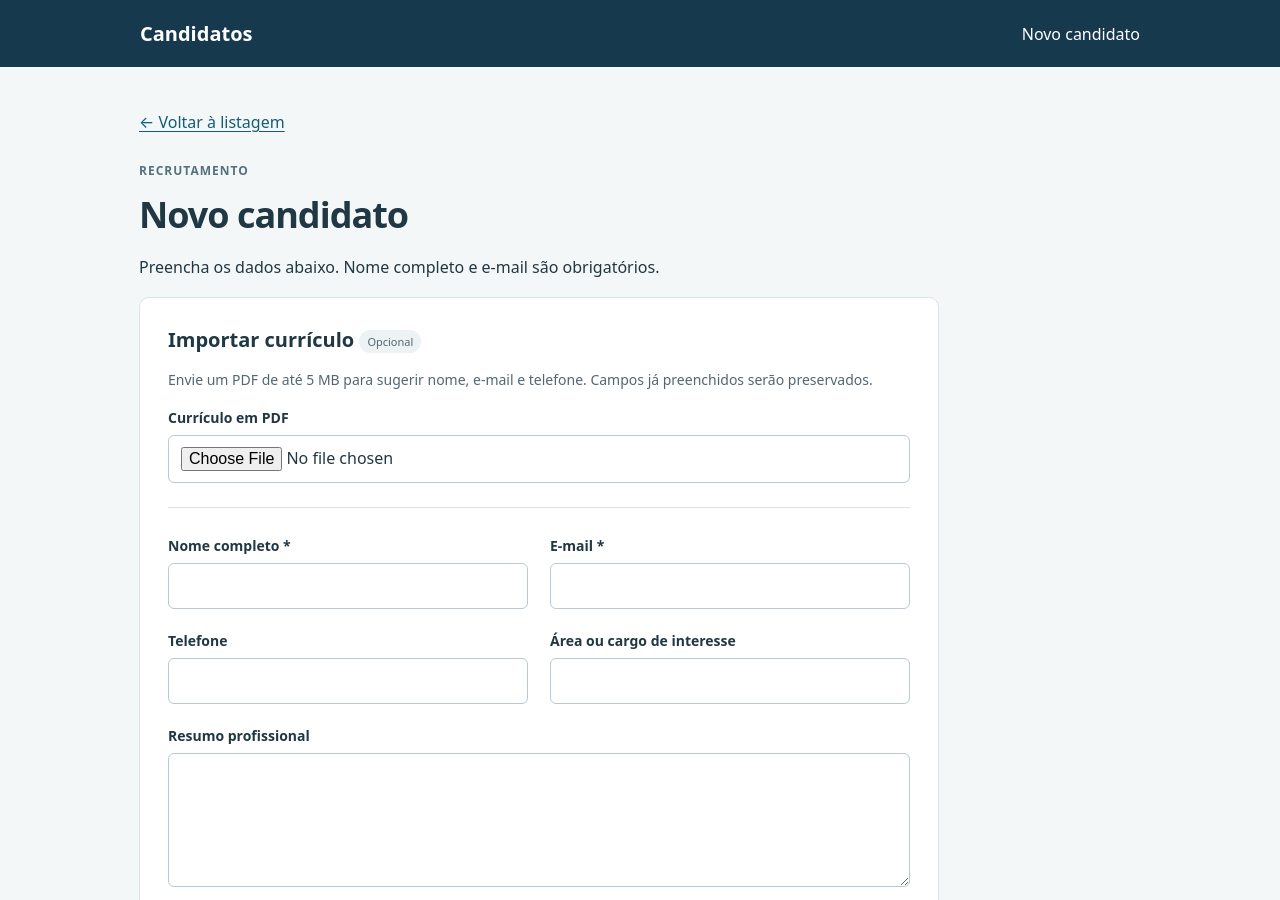
it: mostra validação para nome vazio e email inválido
In the field labelled "E-mail": (730, 586) [550, 563, 910, 609], type "invalido"
(page scrolled)
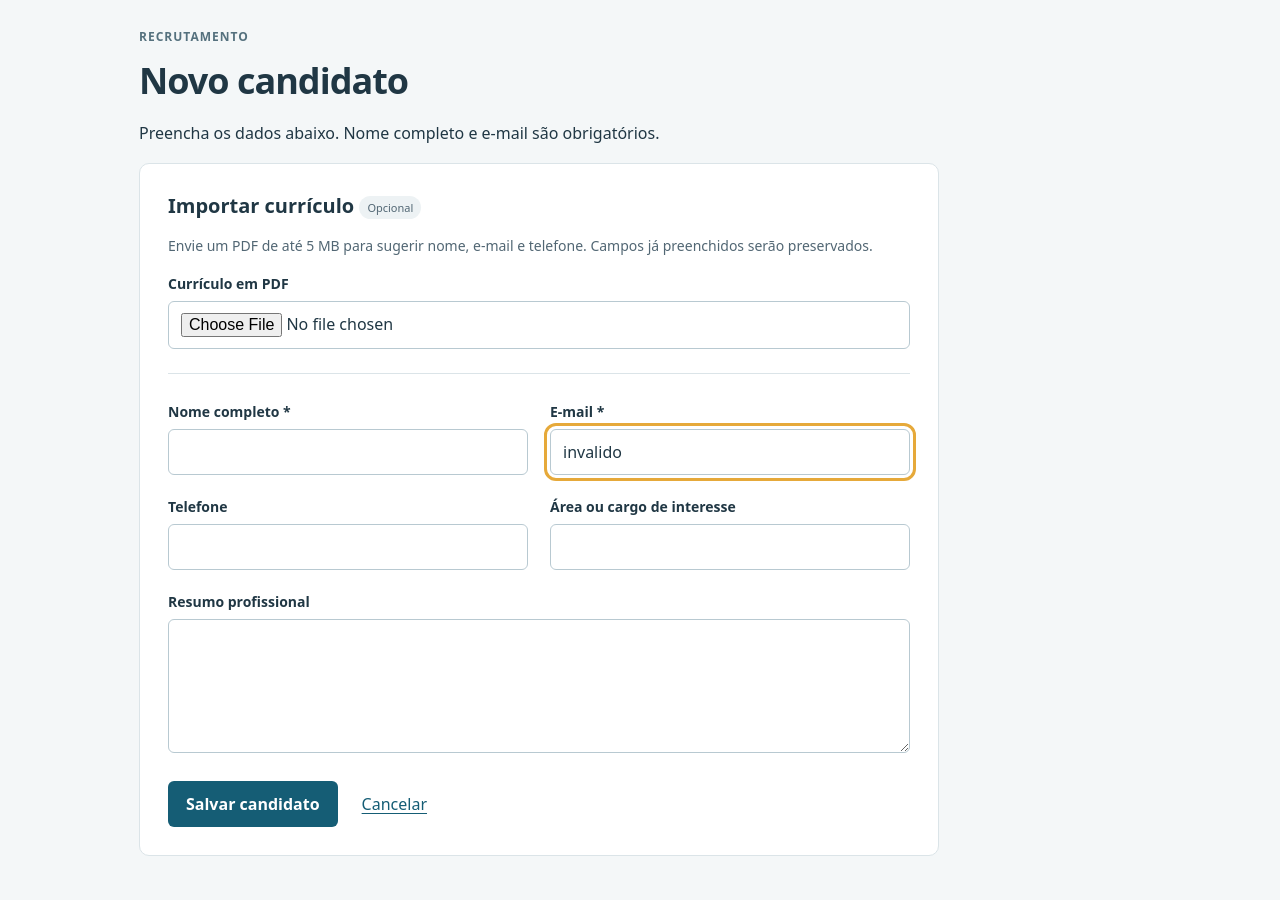
Click the button "Salvar candidato": click(253, 804) [168, 781, 338, 827]
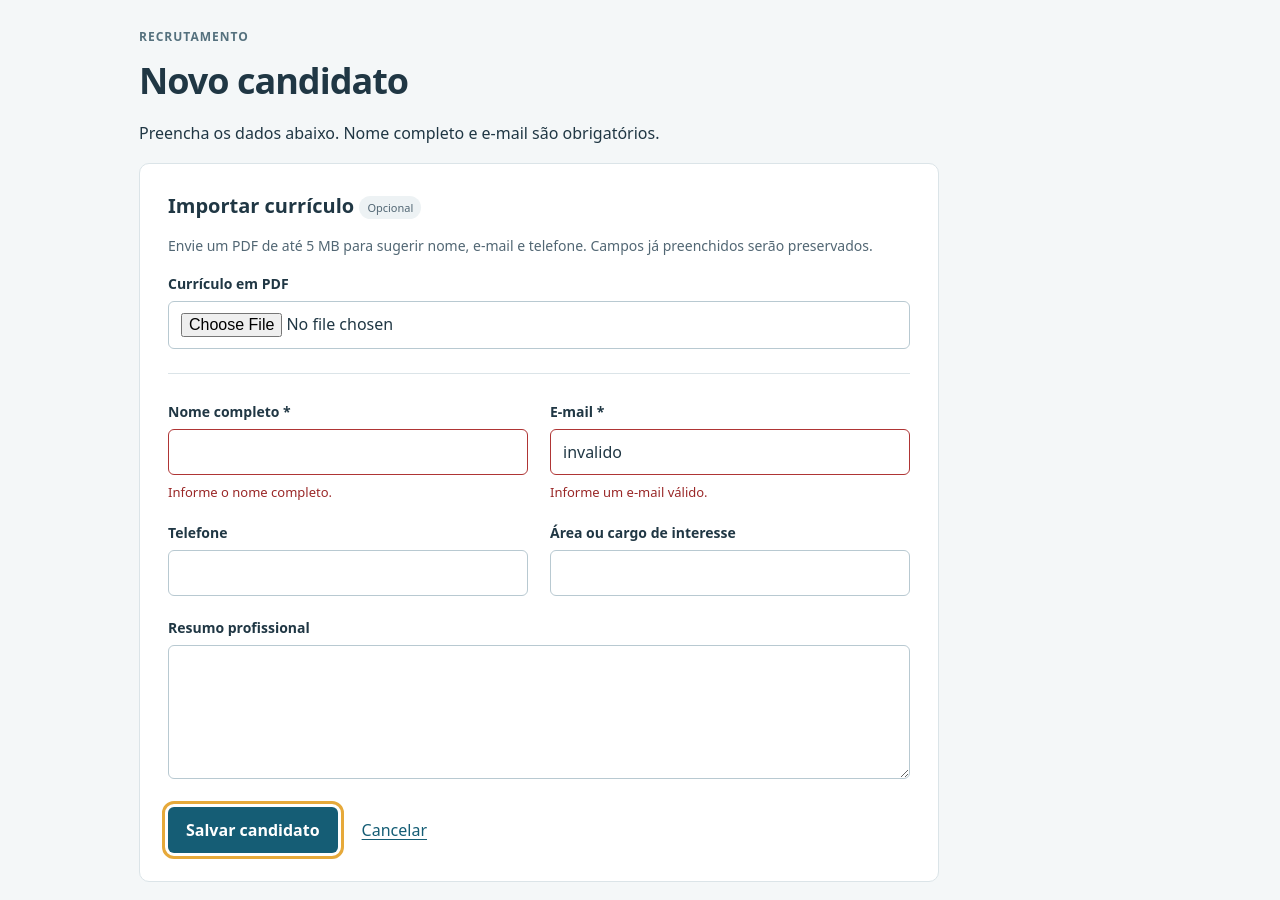
Result: the text "Informe o nome completo." is shown at [168, 483, 332, 501]
Result: the text "Informe um e-mail válido." is shown at [550, 483, 708, 501]
